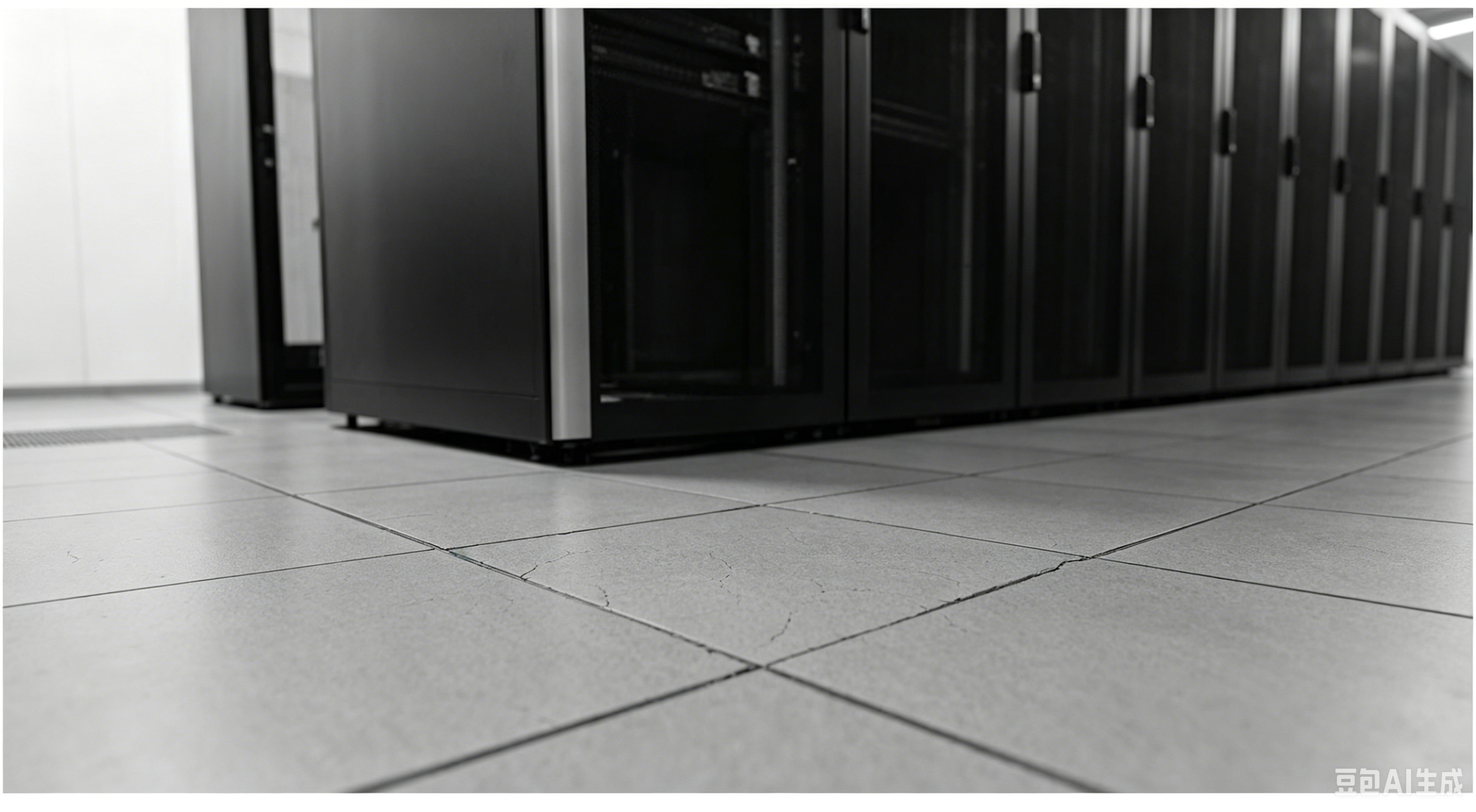floor_defect: (761, 603, 879, 684), (465, 538, 599, 602), (1005, 540, 1113, 584)
